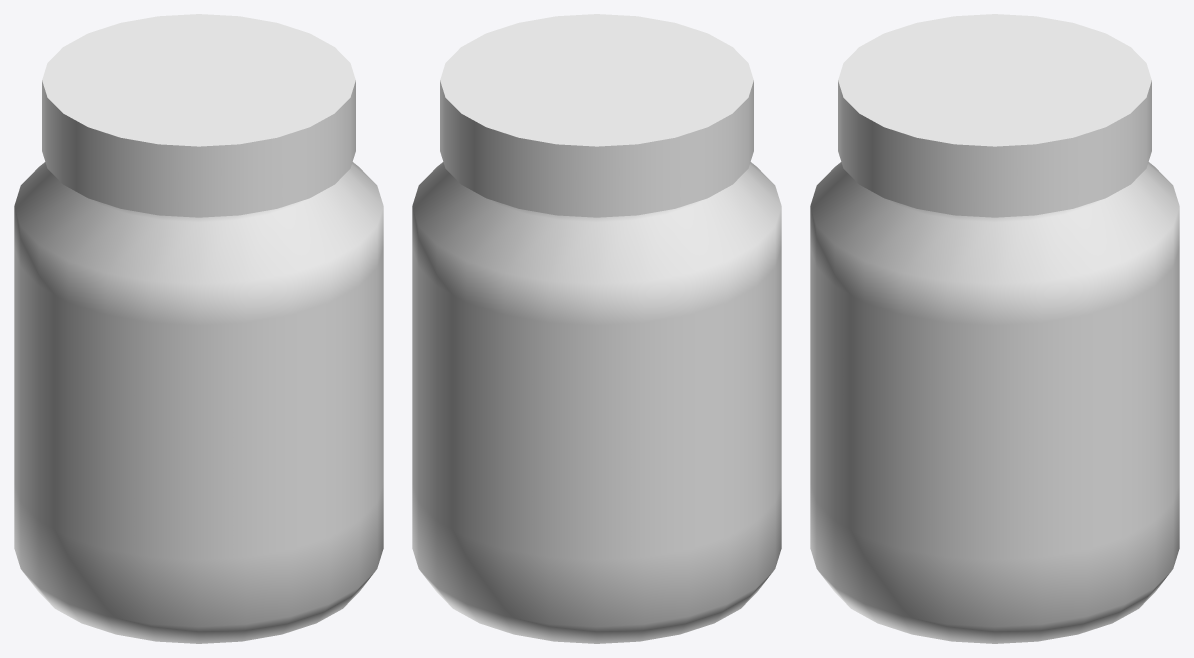
Rendered from honey.glb.
3 renders of one model, left to right at view 1: azimuth 30°, elevation 25°; view 2: azimuth 150°, elevation 25°; view 3: azimuth 270°, elevation 25°, orthographic.
Visible parts, largest first — view 1: Honey; view 2: Honey; view 3: Honey.
Boxes of the visible parts, x1,y1,x2,y2 form: Honey: (14,14,383,643); Honey: (412,14,781,643); Honey: (810,14,1179,643).
Bounding box in the file's own units: 0.08 × 0.118 × 0.08.
1 material, 1 textured.
